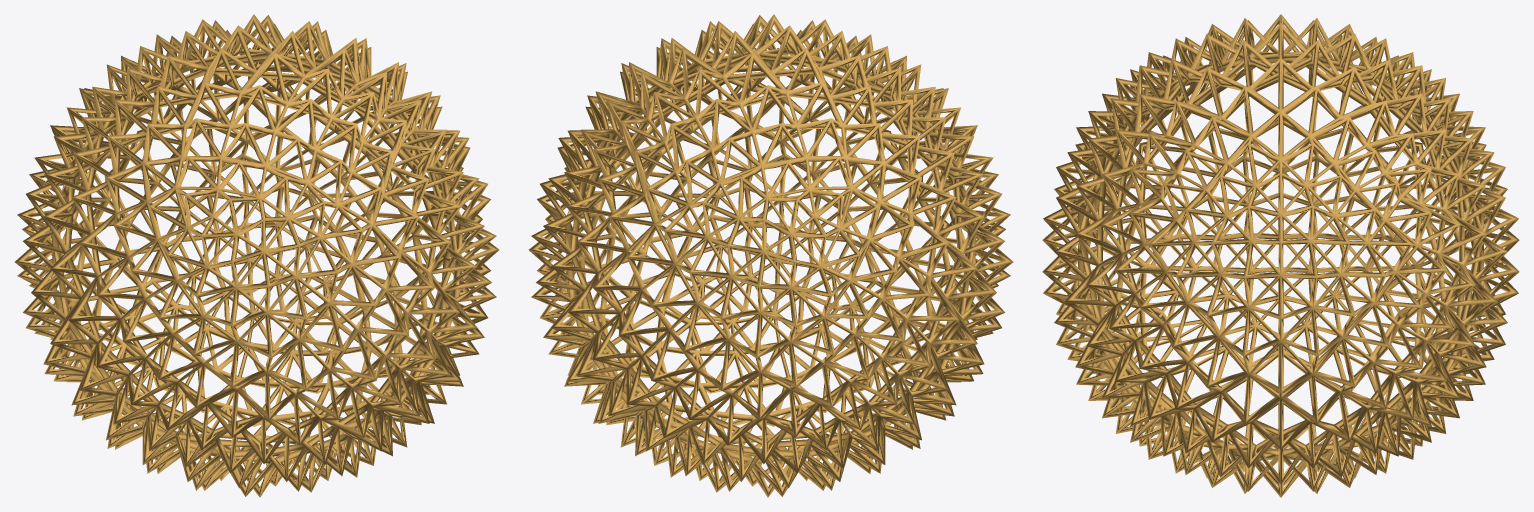
Rendered from hober3.glb.
3 views of the same model, side by side, from view 1: azimuth 30°, elevation 25°; view 2: azimuth 150°, elevation 25°; view 3: azimuth 270°, elevation 25° (orthographic).
Parts seen in each view (by area): view 1: Cube; view 2: Cube; view 3: Cube.
Part boxes in pixels (bbox=[...]): Cube: bbox=[14, 14, 499, 497]; Cube: bbox=[528, 14, 1013, 497]; Cube: bbox=[1042, 14, 1519, 497].
Bounding box in the file's own units: 61.24 × 61.24 × 61.24.
